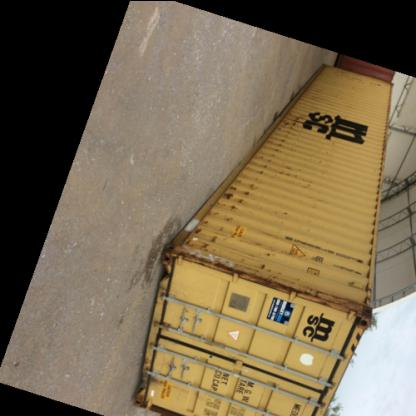Damage: (249, 116, 300, 192), (172, 247, 257, 274), (212, 180, 248, 243), (231, 272, 323, 296), (306, 291, 378, 321), (256, 236, 280, 280)
